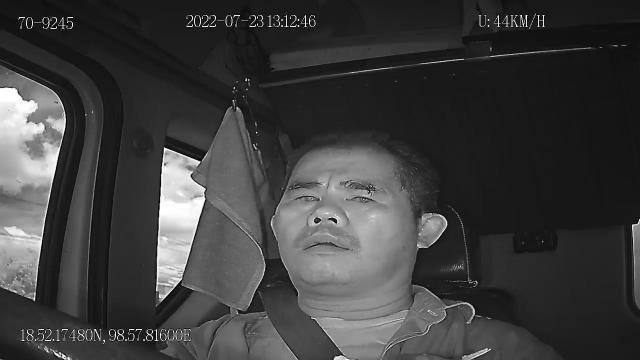SafeDriving: (338, 182, 384, 210), (286, 186, 324, 210)
Seatbelt: (256, 284, 348, 360)
